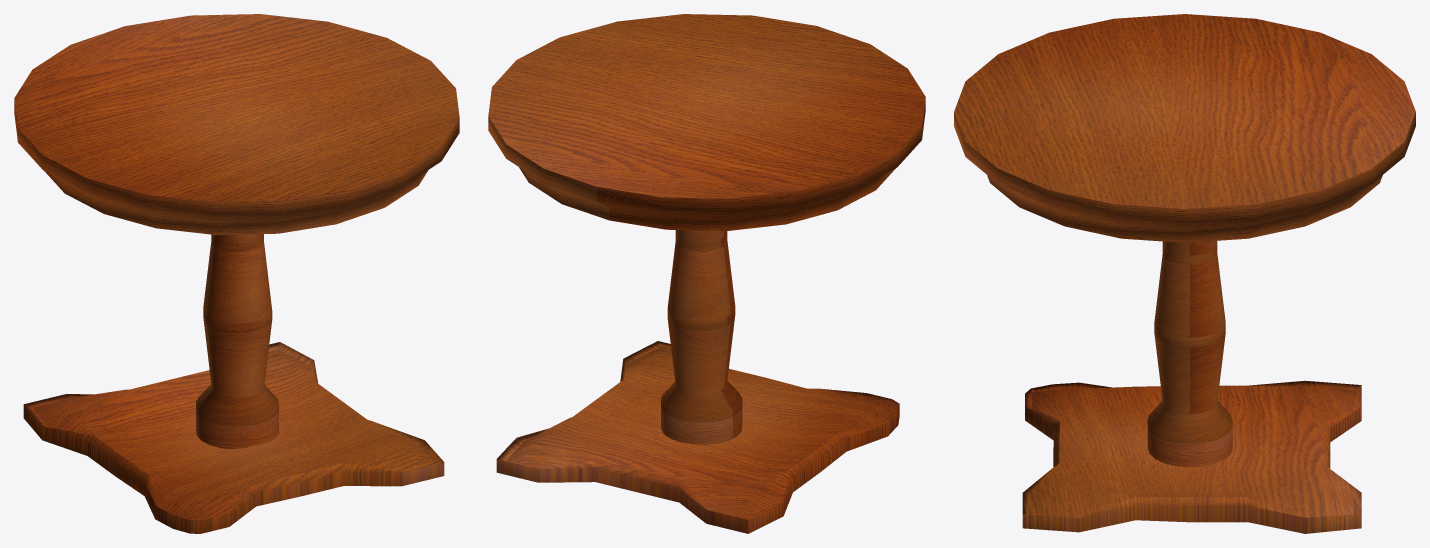
Rendered from Nightstand.fbx.
3 views of the same model, side by side, from view 1: azimuth 30°, elevation 25°; view 2: azimuth 150°, elevation 25°; view 3: azimuth 270°, elevation 25° (orthographic). The views are drawn at different scales.
Visible parts, largest first — view 1: pCylinder2, pCube1, pCylinder1; view 2: pCylinder2, pCube1, pCylinder1; view 3: pCylinder2, pCube1, pCylinder1.
Part boxes in pixels (bbox=[...]): pCylinder2: bbox=[14, 14, 459, 234]; pCube1: bbox=[23, 342, 444, 533]; pCylinder1: bbox=[196, 234, 278, 448]; pCylinder2: bbox=[488, 14, 925, 230]; pCube1: bbox=[496, 341, 899, 533]; pCylinder1: bbox=[661, 230, 742, 444]; pCylinder2: bbox=[954, 14, 1415, 242]; pCube1: bbox=[1022, 380, 1361, 533]; pCylinder1: bbox=[1147, 241, 1232, 467].
Size of the model in its own units: 1.7 by 1.45 by 1.7.
1 material, 1 textured.
